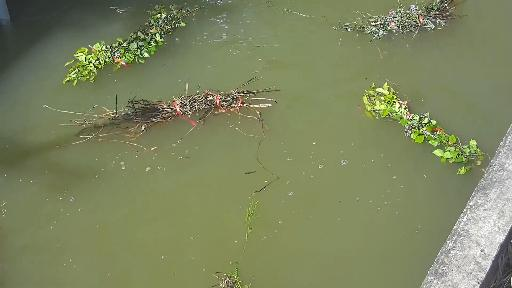twig: (90, 75, 284, 160), (341, 76, 488, 179), (61, 0, 224, 91), (215, 189, 277, 288), (328, 0, 487, 37)
